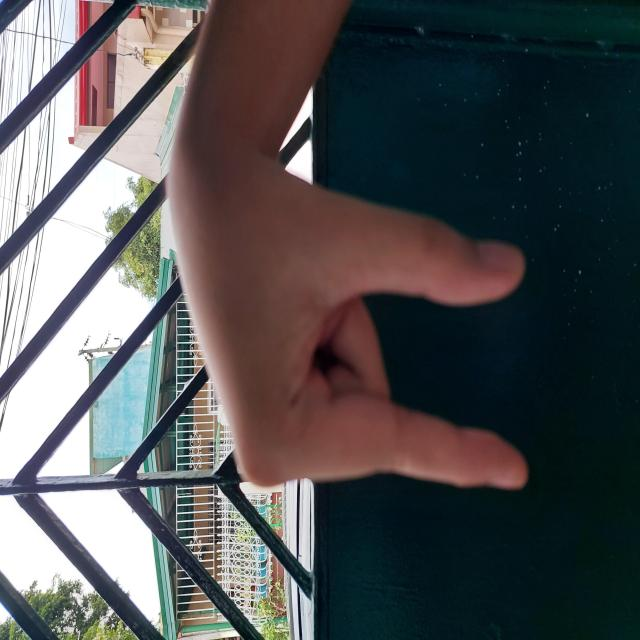Q: (146, 165, 486, 530)
